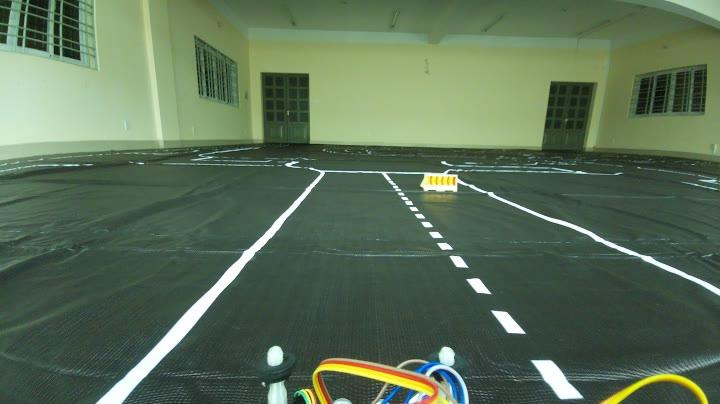roadblock: (416, 164, 462, 198)
